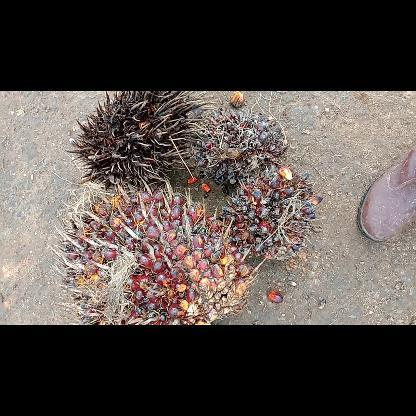Janjang kosong: (62, 91, 210, 191)
TBS abnormal: (218, 164, 324, 264), (183, 103, 289, 186)
TBS masak: (49, 178, 258, 324)
